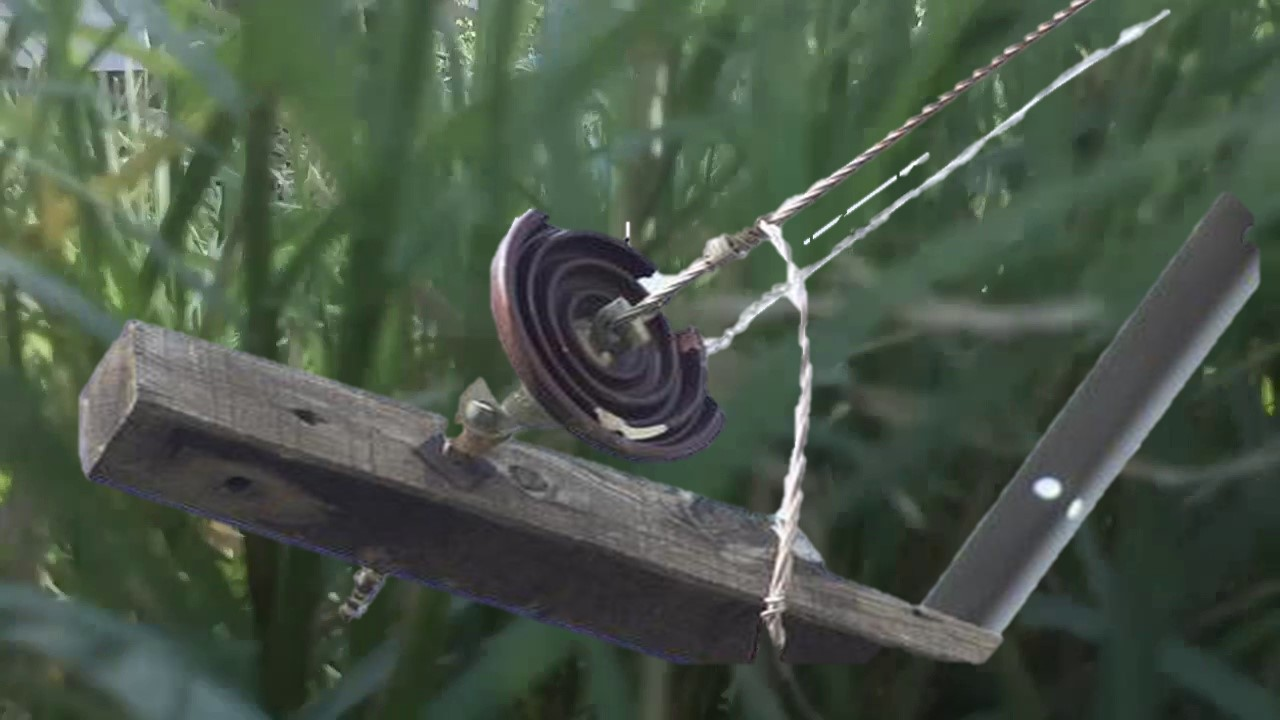defect_disc: (484, 195, 732, 477)
